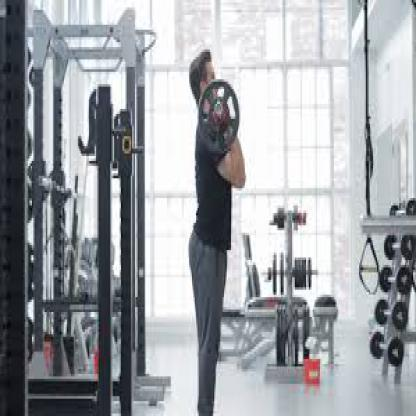barbell: (196, 79, 241, 157)
